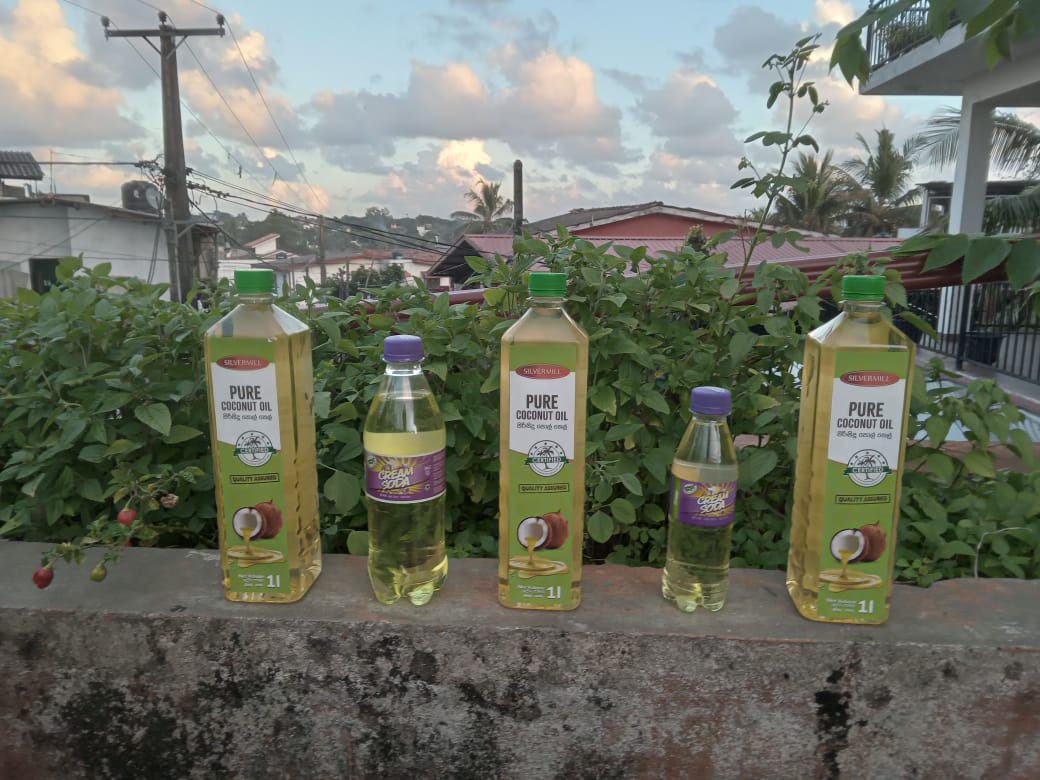S: (360, 335, 451, 611)
Xs: (661, 383, 737, 611)
